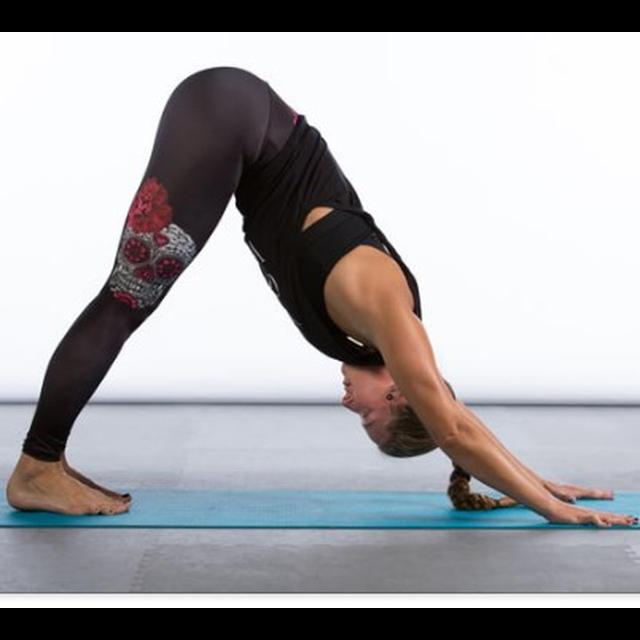Downward-Facing_Dog: (6, 65, 640, 530)
